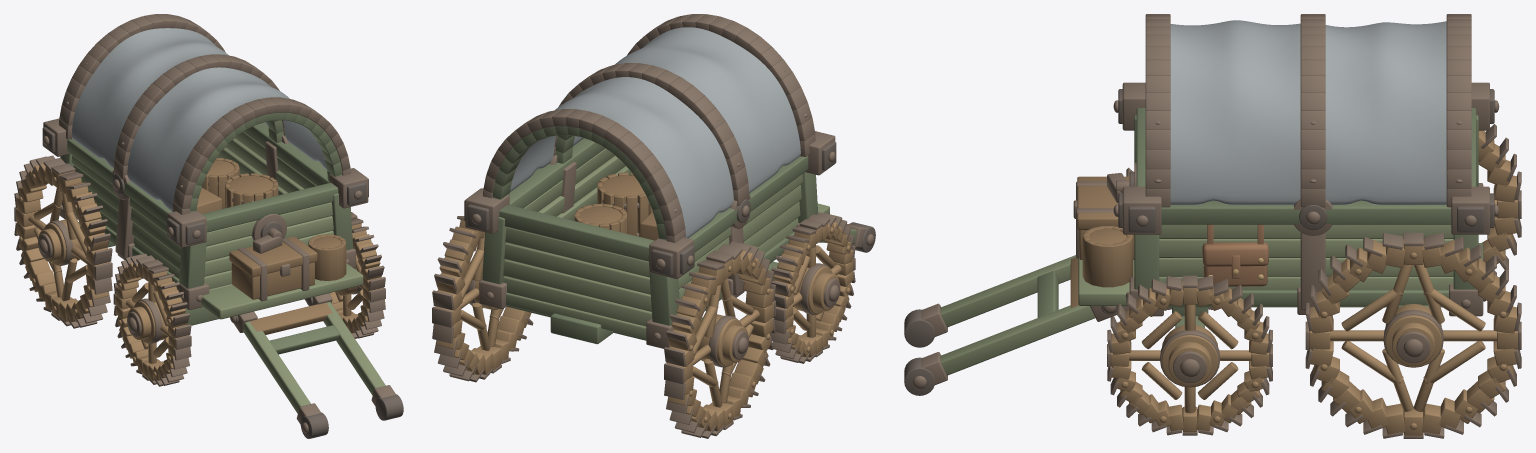
3 renders of one model, left to right at view 1: azimuth 30°, elevation 25°; view 2: azimuth 150°, elevation 25°; view 3: azimuth 270°, elevation 25°, orthographic. The views are drawn at different scales.
Visible parts, largest first — view 1: Canopy_Canvas, Front_Shelf_Floor, Front_Top_Rail, Drawbar_Shaft_L, Front_Chest_Lid, Top_Rail_L, Front_Chest_Body, Top_Rail_R, Drawbar_Shaft_R, Front_Plank_3, Drawbar_Crossbar_Upper, Front_Plank_2 (+29 smaller); view 2: Canopy_Canvas, Rear_Top_Rail, Rear_Plank_1, Rear_Plank_2, Rear_Plank_0, Rear_Plank_3, Top_Rail_L, Top_Rail_R, Wagon_Floor, Side_Plank_L_2, Corner_Post_Rear_L, Corner_Post_Rear_R (+23 smaller); view 3: Canopy_Canvas, Top_Rail_R, Side_Plank_R_3, Drawbar_Shaft_R, Drawbar_Shaft_L, Side_Plank_R_2, Side_Plank_R_1, Bottom_Rail_R, Front_Chest_Lid, Side_Plank_R_0, Mid_Side_Strap_R, Leather_Pouch_Flap (+30 smaller).
Boxes of the visible parts, x1=… form: Canopy_Canvas: x1=71, y1=28, x2=326, y2=211; Front_Shelf_Floor: x1=201, y1=263, x2=363, y2=319; Front_Top_Rail: x1=202, y1=182, x2=338, y2=232; Drawbar_Shaft_L: x1=242, y1=321, x2=310, y2=413; Front_Chest_Lid: x1=229, y1=236, x2=317, y2=277; Top_Rail_L: x1=67, y1=139, x2=171, y2=224; Front_Chest_Body: x1=231, y1=262, x2=314, y2=299; Top_Rail_R: x1=243, y1=122, x2=329, y2=185; Drawbar_Shaft_R: x1=323, y1=302, x2=385, y2=395; Front_Plank_3: x1=206, y1=202, x2=332, y2=246; Drawbar_Crossbar_Upper: x1=250, y1=302, x2=332, y2=334; Front_Plank_2: x1=205, y1=216, x2=333, y2=261; Canopy_Canvas: x1=510, y1=27, x2=800, y2=238; Rear_Top_Rail: x1=499, y1=205, x2=654, y2=261; Rear_Plank_1: x1=503, y1=259, x2=651, y2=311; Rear_Plank_2: x1=504, y1=243, x2=650, y2=294; Rear_Plank_0: x1=503, y1=276, x2=651, y2=326; Rear_Plank_3: x1=505, y1=227, x2=649, y2=277; Top_Rail_L: x1=688, y1=156, x2=808, y2=252; Top_Rail_R: x1=509, y1=138, x2=605, y2=208; Wagon_Floor: x1=506, y1=292, x2=646, y2=339; Side_Plank_L_2: x1=678, y1=185, x2=801, y2=288; Corner_Post_Rear_L: x1=648, y1=254, x2=679, y2=325; Corner_Post_Rear_R: x1=482, y1=217, x2=506, y2=284; Canopy_Canvas: x1=1170, y1=20, x2=1446, y2=204; Top_Rail_R: x1=1161, y1=200, x2=1451, y2=224; Side_Plank_R_3: x1=1159, y1=224, x2=1453, y2=238; Drawbar_Shaft_R: x1=940, y1=305, x2=1095, y2=375; Drawbar_Shaft_L: x1=940, y1=255, x2=1075, y2=327; Side_Plank_R_2: x1=1159, y1=239, x2=1453, y2=257; Side_Plank_R_1: x1=1159, y1=258, x2=1453, y2=276; Bottom_Rail_R: x1=1169, y1=290, x2=1448, y2=305; Front_Chest_Lid: x1=1077, y1=176, x2=1129, y2=229; Side_Plank_R_0: x1=1159, y1=277, x2=1453, y2=290; Mid_Side_Strap_R: x1=1300, y1=232, x2=1325, y2=310; Leather_Pouch_Flap: x1=1202, y1=242, x2=1268, y2=266.
Bounding box in the file's own units: 0.6167 × 0.6127 × 1.
